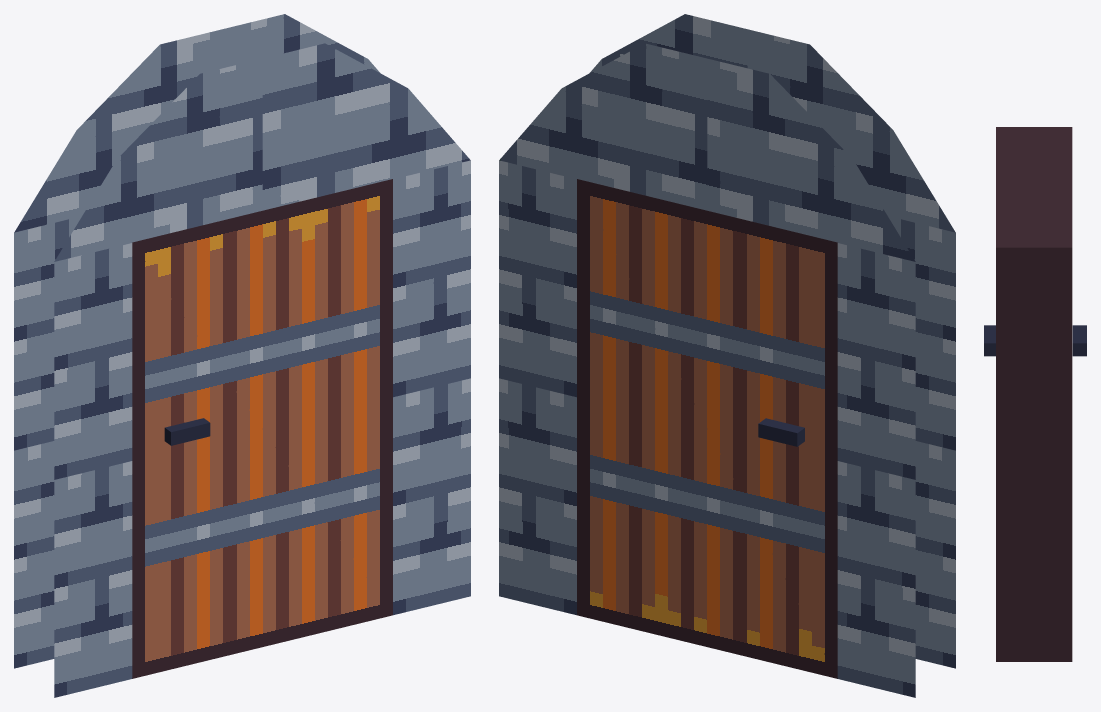
Rendered from door.glb.
3 views of the same model, side by side, from view 1: azimuth 30°, elevation 25°; view 2: azimuth 150°, elevation 25°; view 3: azimuth 270°, elevation 25° (orthographic). The views are drawn at different scales.
Parts seen in each view (by area): view 1: Door-Enclosure-col, Door; view 2: Door-Enclosure-col, Door; view 3: Door.
Part boxes in pixels (x1=…): Door-Enclosure-col: x1=14, y1=14, x2=470, y2=697; Door: x1=132, y1=179, x2=392, y2=678; Door-Enclosure-col: x1=499, y1=14, x2=955, y2=697; Door: x1=577, y1=179, x2=837, y2=678; Door: x1=984, y1=127, x2=1086, y2=661.
Bounding box in the file's own units: 2.02 × 2.73 × 0.4552.
1 material, 1 textured.
